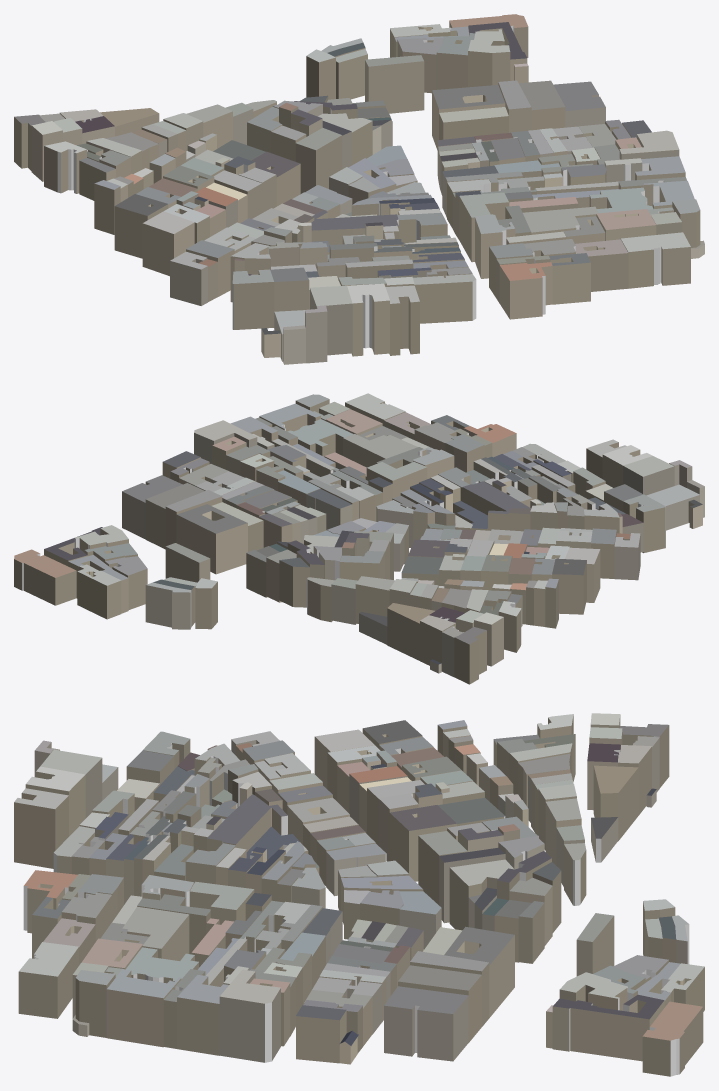
The picture shows the model from 3 angles, top to bottom: view 1: azimuth 30°, elevation 25°; view 2: azimuth 150°, elevation 25°; view 3: azimuth 270°, elevation 25°; orthographic projection. The views are drawn at different scales.
Parts seen in each view (by area): view 1: tuile; view 2: tuile; view 3: tuile.
Part boxes in pixels (left/top/right/bottom): tuile: left=14, top=14, right=704, bottom=364; tuile: left=14, top=393, right=704, bottom=684; tuile: left=14, top=713, right=704, bottom=1076.
Size of the model in its own units: 271 by 34.3 by 266.
